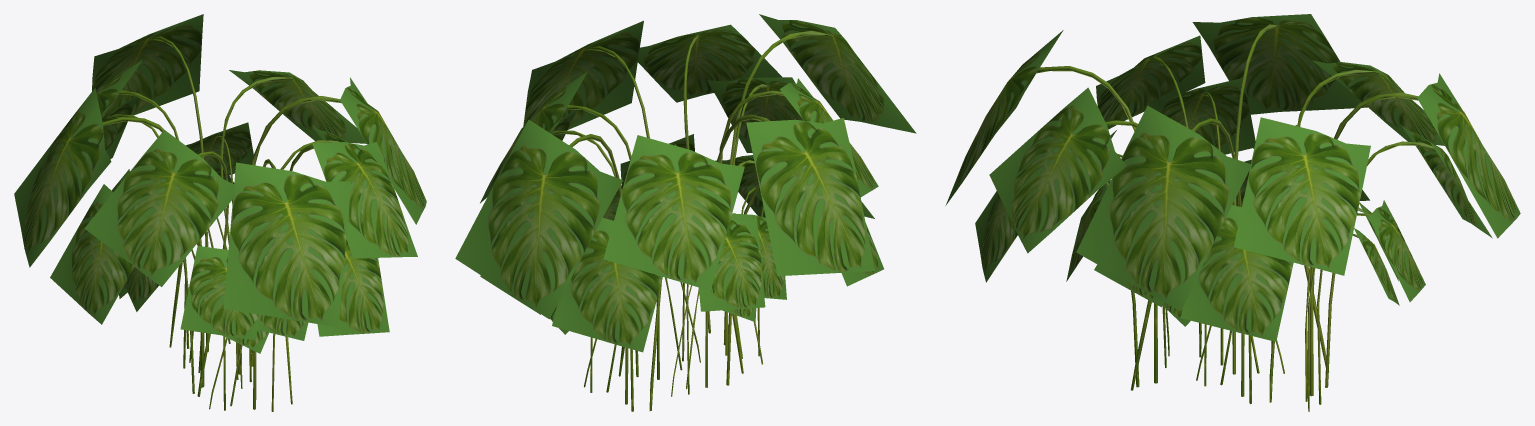
The model's file is monstera small.fbx.
3 renders of one model, left to right at view 1: azimuth 30°, elevation 25°; view 2: azimuth 150°, elevation 25°; view 3: azimuth 270°, elevation 25°, orthographic. The views are drawn at different scales.
Parts seen in each view (by area): view 1: monstera small.003; view 2: monstera small.003; view 3: monstera small.003.
Boxes of the visible parts, x1,y1,x2,y2 form: monstera small.003: (14, 14, 426, 411); monstera small.003: (455, 14, 916, 411); monstera small.003: (945, 14, 1520, 411).
Size of the model in its own units: 224 by 171 by 277.
